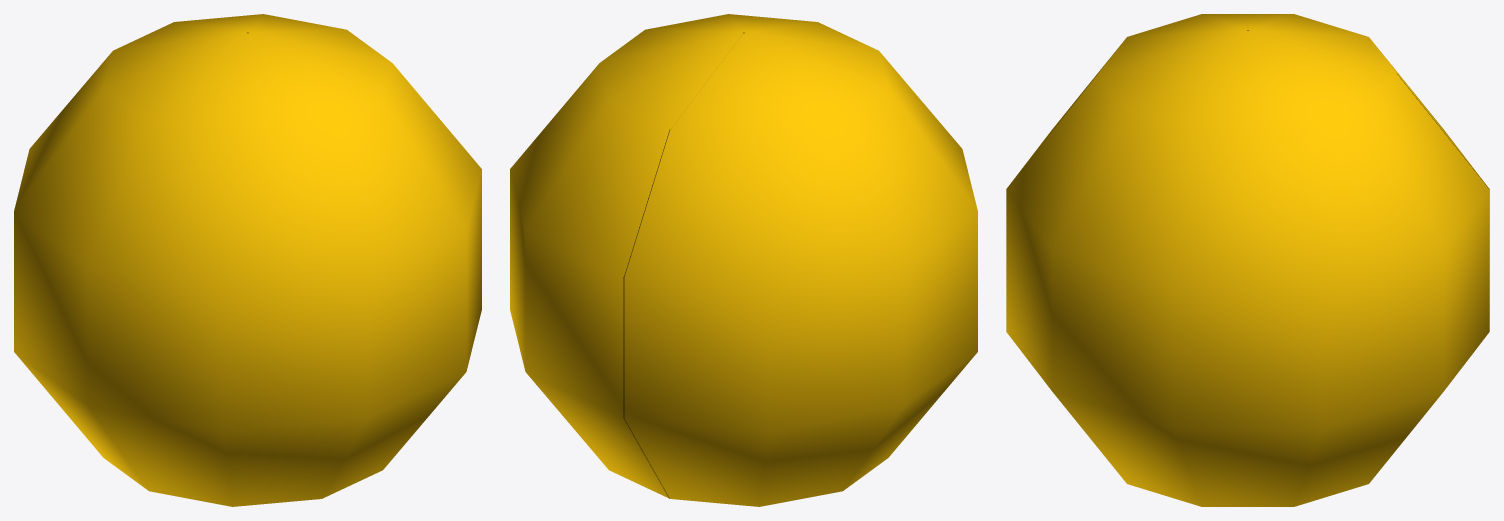
Rendered from bullet_test.fbx.
3 views of the same model, side by side, from view 1: azimuth 30°, elevation 25°; view 2: azimuth 150°, elevation 25°; view 3: azimuth 270°, elevation 25° (orthographic).
Parts seen in each view (by area): view 1: Sphere001; view 2: Sphere001; view 3: Sphere001.
Part boxes in pixels (left/top/right/bottom): Sphere001: left=14, top=14, right=481, bottom=506; Sphere001: left=510, top=14, right=977, bottom=506; Sphere001: left=1006, top=14, right=1489, bottom=506.
Bounding box in the file's own units: 10.07 × 10.59 × 11.13.
1 material, 1 textured.
